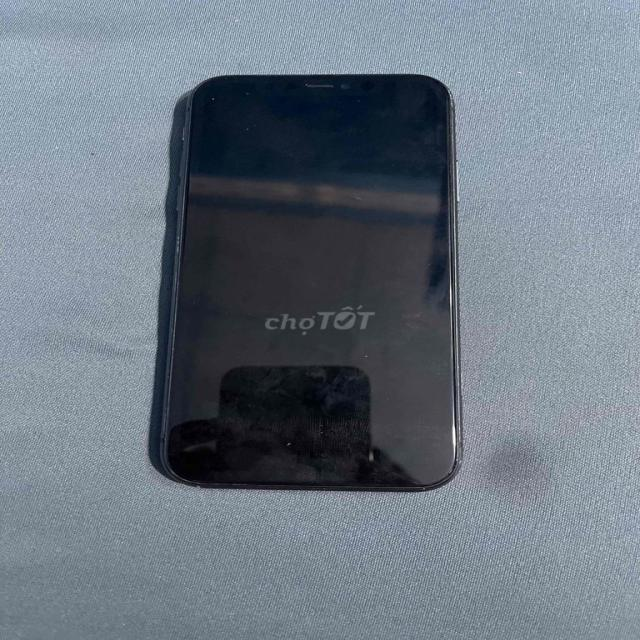scratch: (200, 83, 263, 108), (349, 192, 371, 205), (240, 121, 256, 134), (280, 439, 291, 447)
